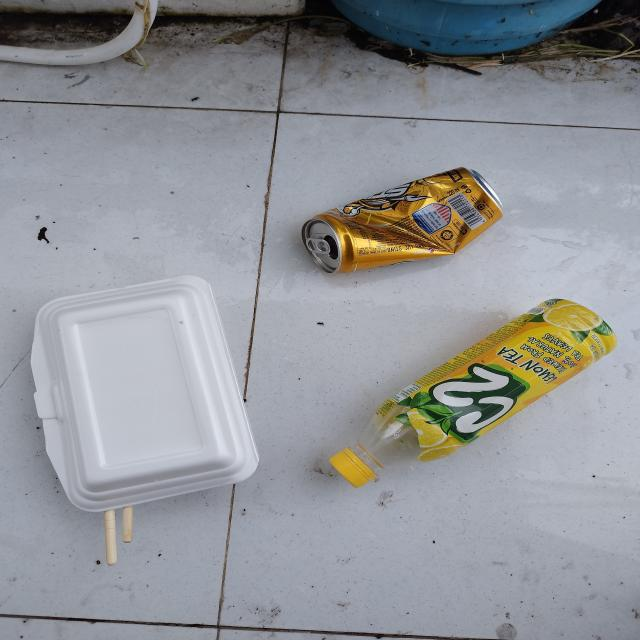bottle: (325, 295, 619, 487)
can: (300, 166, 504, 274)
foam box: (30, 274, 258, 512)
